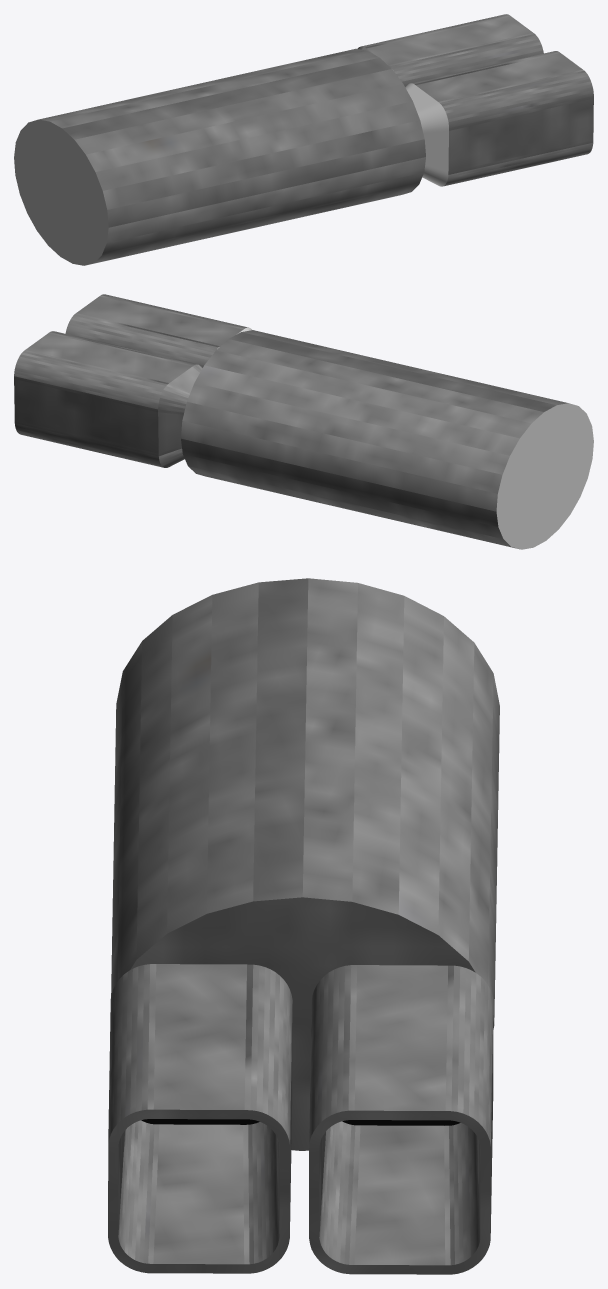
File: car_096.glb
The picture shows the model from 3 angles, top to bottom: view 1: azimuth 30°, elevation 25°; view 2: azimuth 150°, elevation 25°; view 3: azimuth 270°, elevation 25°; orthographic projection. The views are drawn at different scales.
Visible parts, largest first — view 1: car.096; view 2: car.096; view 3: car.096.
Boxes of the visible parts, x1,y1,x2,y2 form: car.096: [14, 14, 593, 265]; car.096: [14, 294, 593, 549]; car.096: [108, 578, 499, 1274].
Bounding box in the file's own units: 1.79 × 0.4689 × 0.6256.
Materials: 3 (1 with a texture image).
